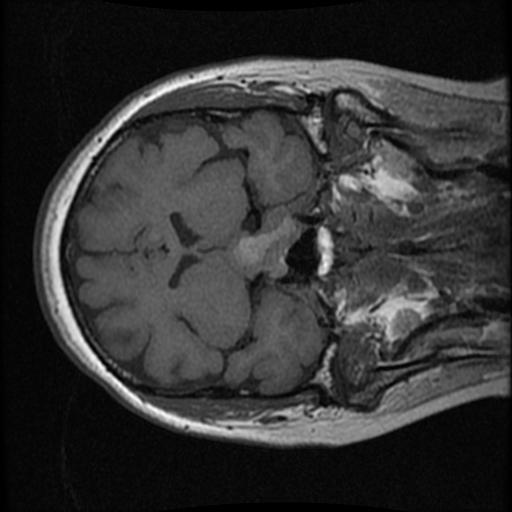pituitary tumour: (233, 206, 301, 278)
